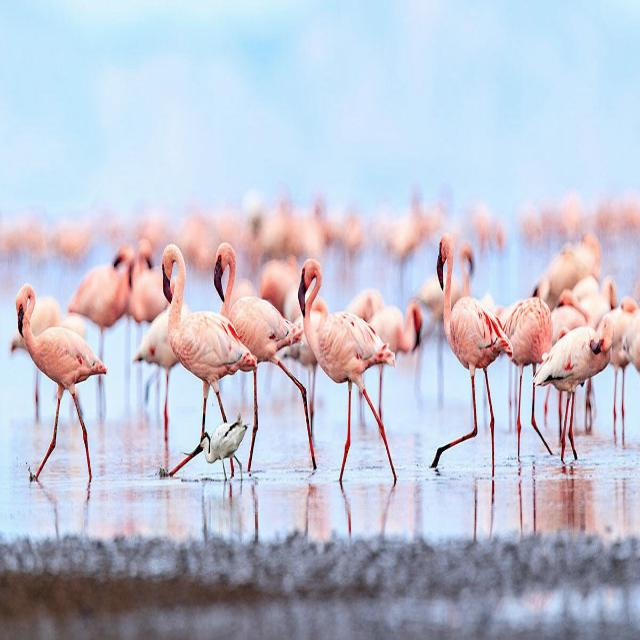flamingo: (213, 243, 316, 468), (297, 259, 396, 483), (162, 244, 257, 475), (430, 234, 512, 474), (15, 284, 106, 481), (534, 315, 613, 459), (503, 296, 552, 461)
